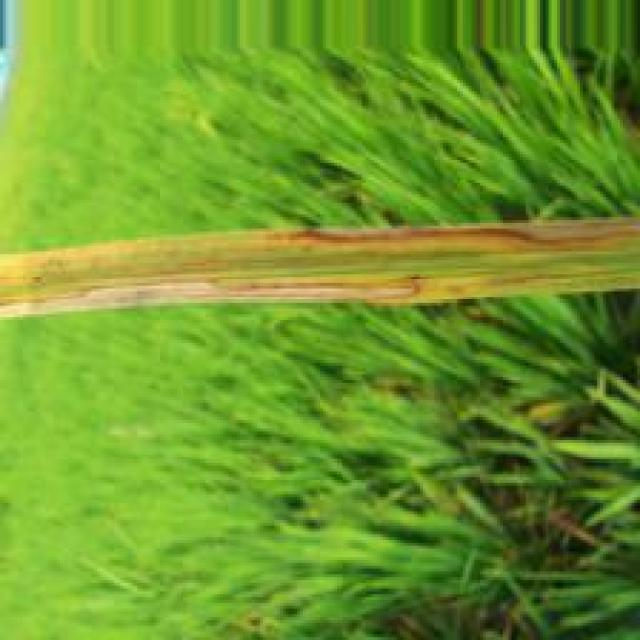Leaf_Blast: (4, 276, 429, 318), (271, 220, 640, 253)
